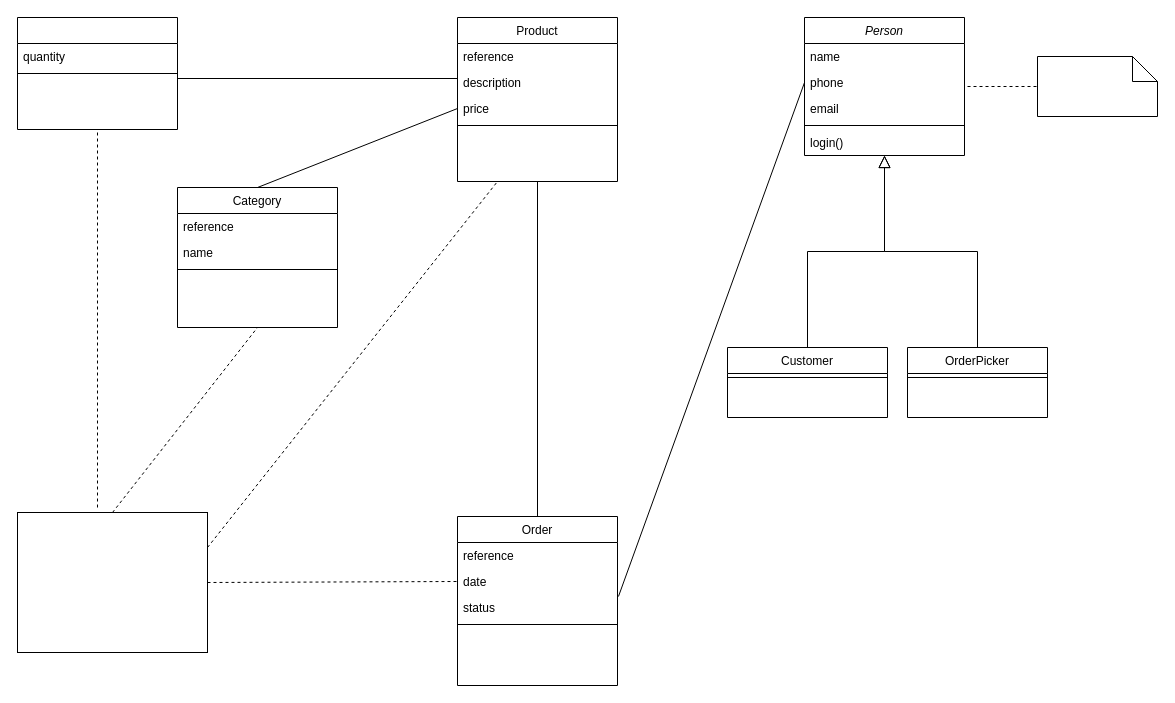
Some shapes in this 1175 by 703 pixel diagram are drawn without their labels. Here are the shapes that lost their labels. From the top down, the box of each, then its label:
(16, 16, 178, 130): Stock
(1036, 56, 1158, 116): Abstract Class
(16, 512, 208, 652): <<Interface>> Manage + add() + remove()
